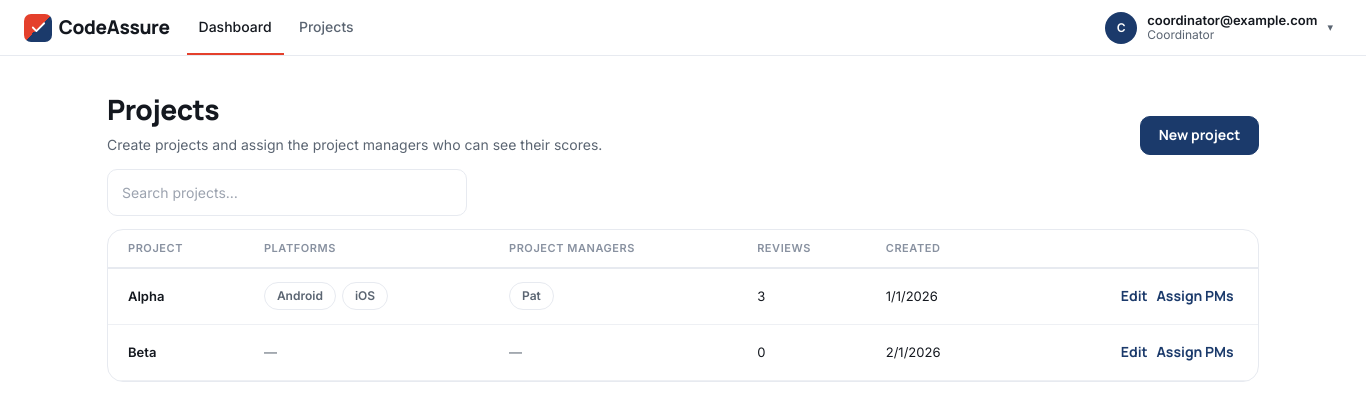
Test: search filters the table
The width and height of the screenshot is (1366, 399).
Expected: the text "Alpha" is shown, [108,268,252,324]
Type "bet" into the search field labelled "Search projects" at (287, 192), box [107,169,467,216]
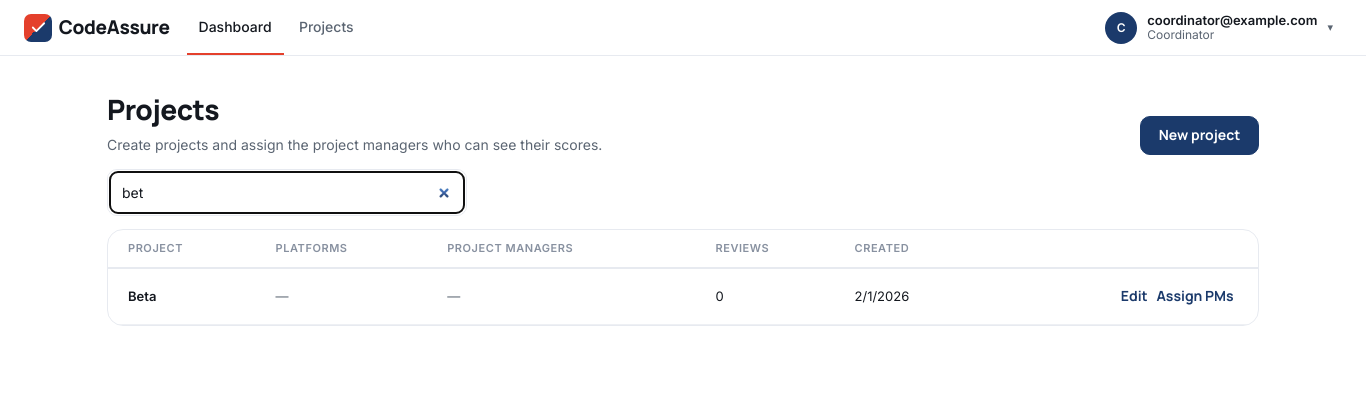
Expected: the text "Beta" is shown, [108,268,264,324]
Now the text "Alpha" is gone
